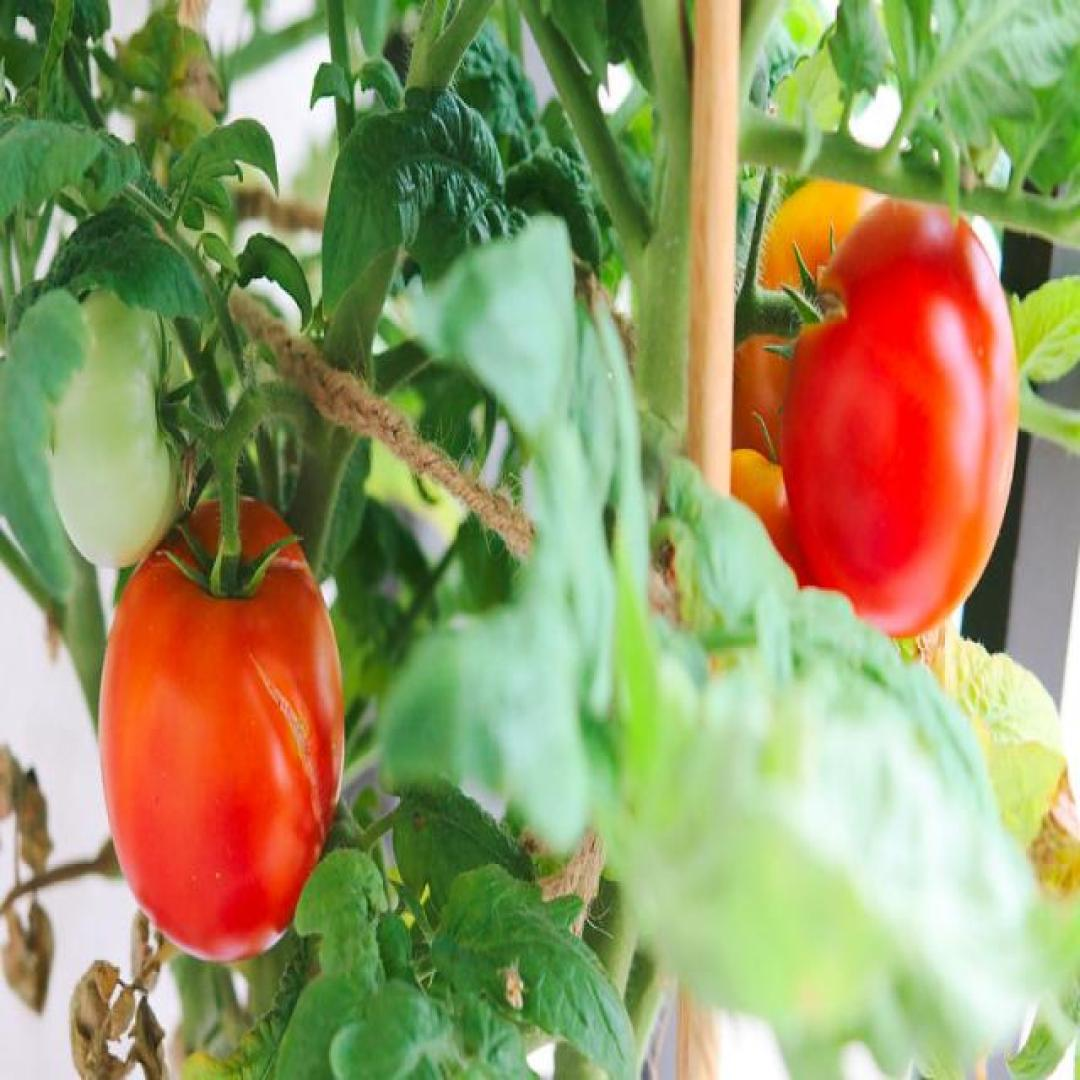matang: (98, 490, 344, 958), (778, 194, 1018, 641)
